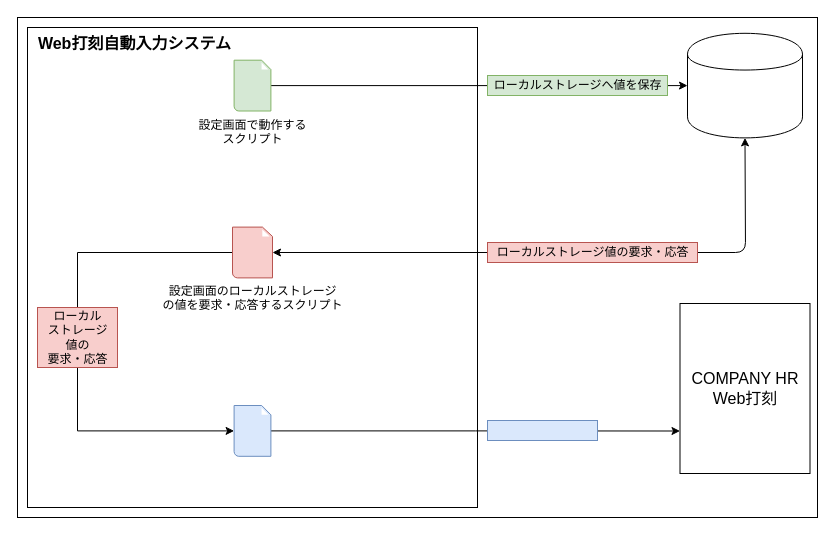
The diagram is 835 pixels wide and 535 high, and some of its shapes have lost their labels. Here are the shapes that lost their labels. From the top down, the centre of each, then its label:
At (744,85): "ローカルストレージ".
At (252,430): "COMPANYHRの勤怠入力画面で 動作するスクリプト".
At (542,430): "設定値の自動入力".
